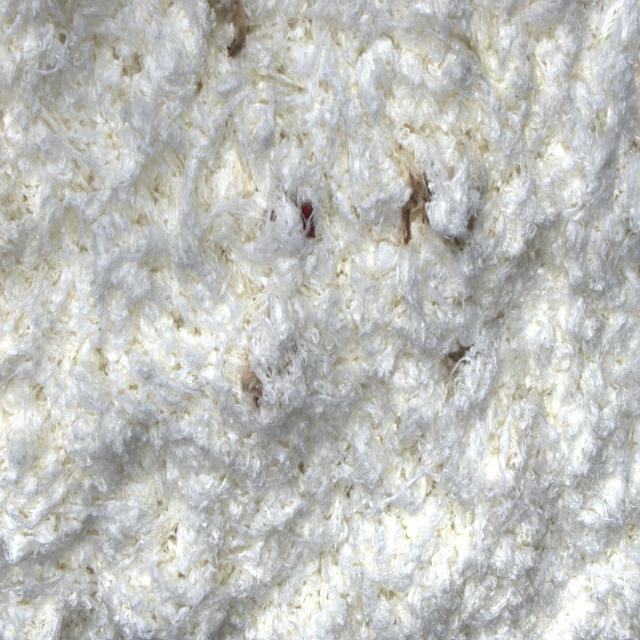dust: (204, 0, 259, 69), (393, 170, 438, 254), (292, 176, 329, 269)
